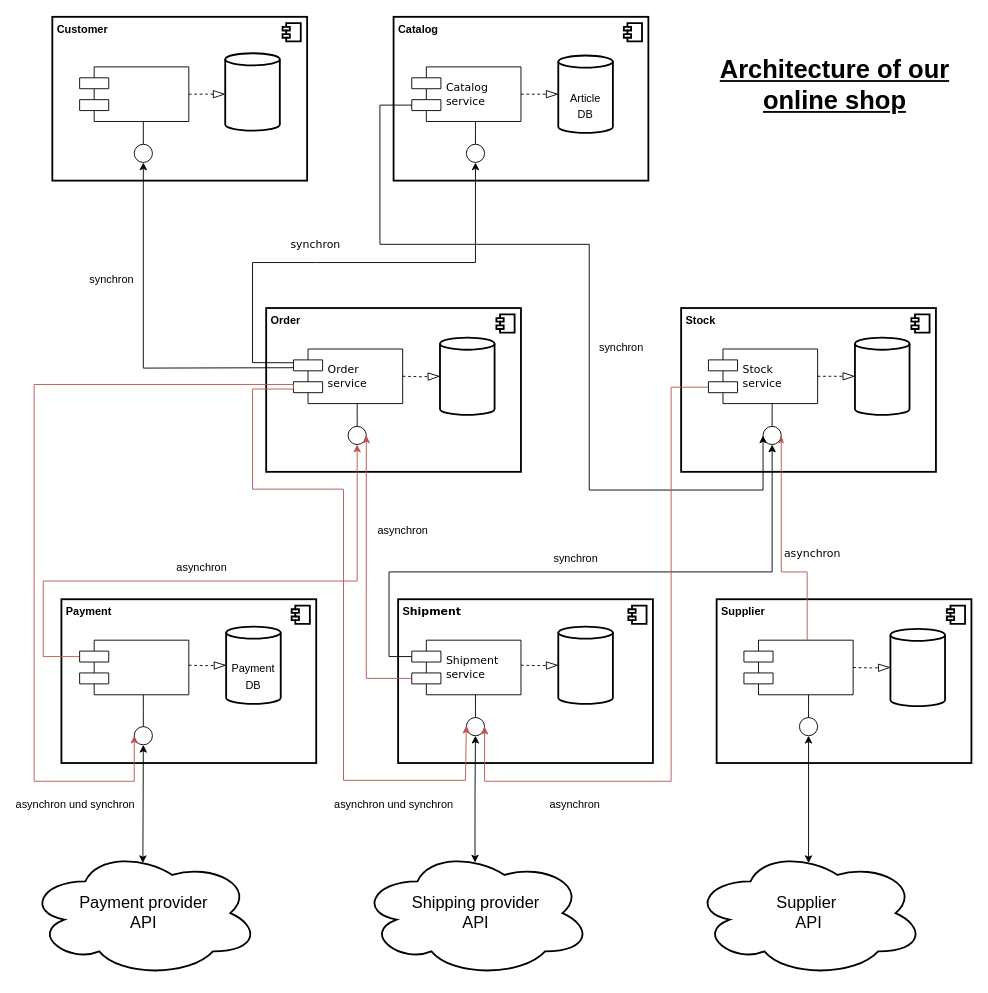
Some shapes in this 988 by 993 pixel diagram are drawn without their labels. The shapes that lost their labels are listed below. From the top down, each one's centre as x and y in pixels, then its label:
At (x=134, y=93): "Customer service".
At (x=252, y=91): "Customer DB".
At (x=467, y=375): "Order DB".
At (x=882, y=375): "Stock DB".
At (x=134, y=667): "Payment service".
At (x=585, y=664): "Shipment DB".
At (x=798, y=667): "Supplier service".
At (x=917, y=667): "Supplier DB".
